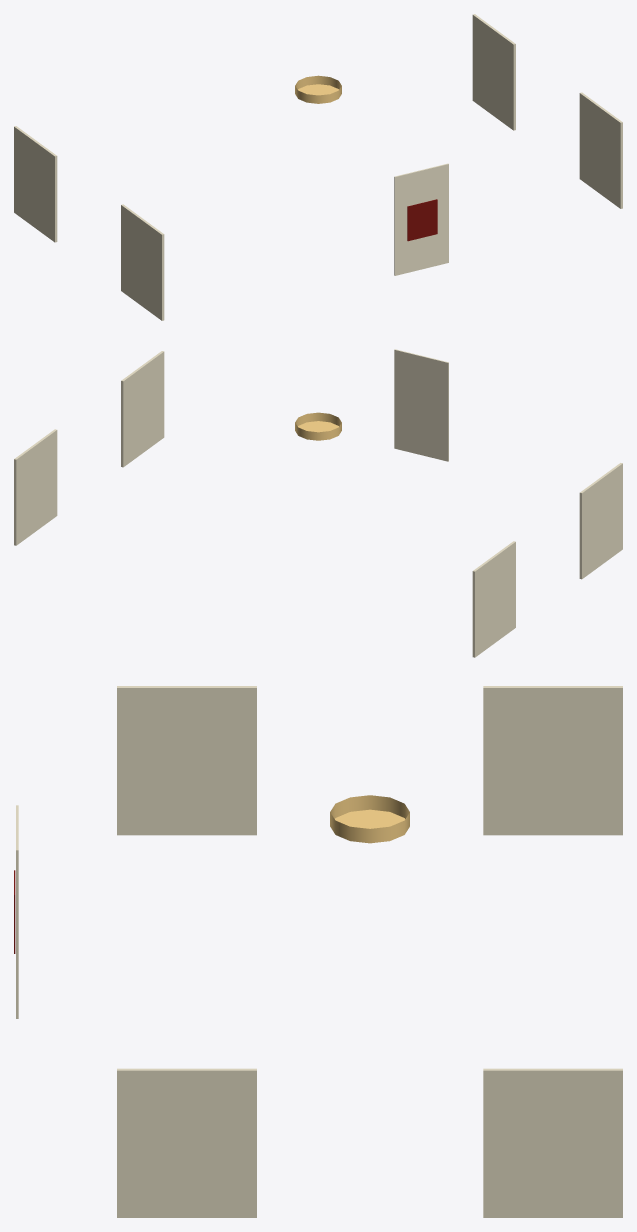
The model's file is SM_Interior_slifer_jaden_room_NoCol.fbx.
3 views of the same model, one above another, from view 1: azimuth 30°, elevation 25°; view 2: azimuth 150°, elevation 25°; view 3: azimuth 270°, elevation 25° (orthographic). The views are drawn at different scales.
Parts seen in each view (by area): view 1: SM_Interior_slifer_jaden_room_NoCol; view 2: SM_Interior_slifer_jaden_room_NoCol; view 3: SM_Interior_slifer_jaden_room_NoCol.
Boxes of the visible parts, left/top/right/bottom form: SM_Interior_slifer_jaden_room_NoCol: left=14, top=14, right=622, bottom=320; SM_Interior_slifer_jaden_room_NoCol: left=14, top=349, right=622, bottom=657; SM_Interior_slifer_jaden_room_NoCol: left=14, top=686, right=622, bottom=1217.
Bounding box in the file's own units: 6.84 × 1.77 × 4.58.
